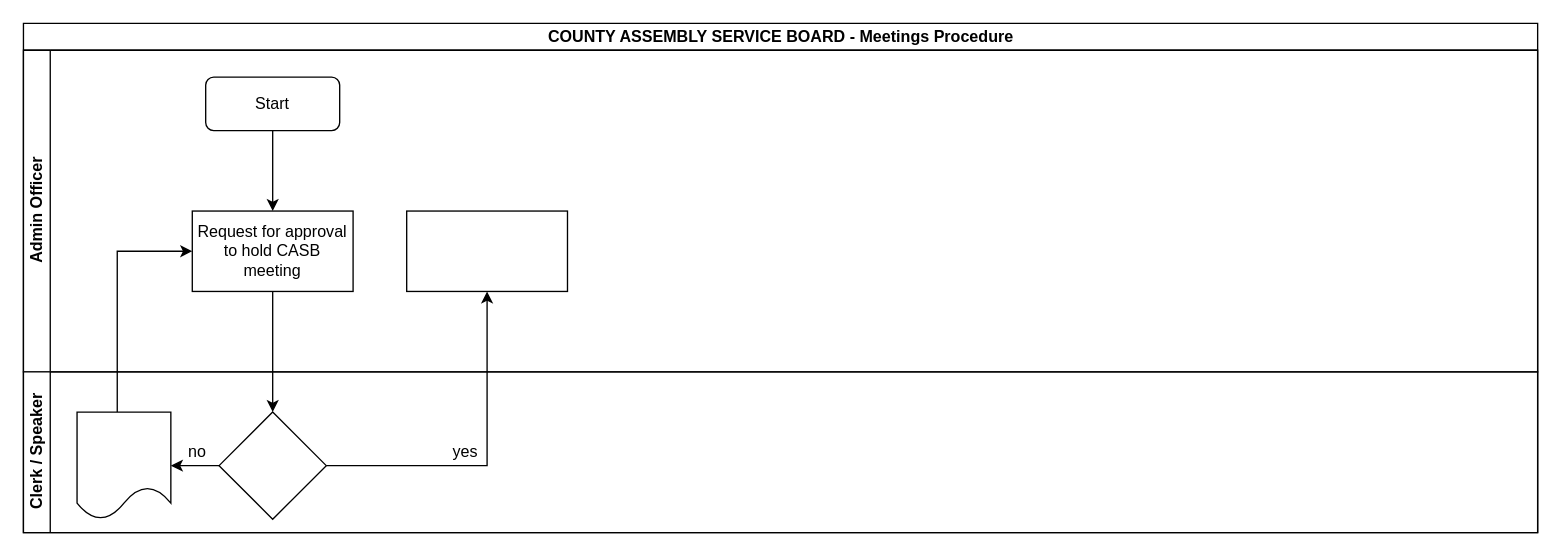
This 1561x556 diagram has some shape labels left out. The shapes that lost their labels are listed below. From the top down, each one's centre as x and y in pixels, then its label:
At pixel 123 465: "Rejection note".
At pixel 272 465: "Approved?".
